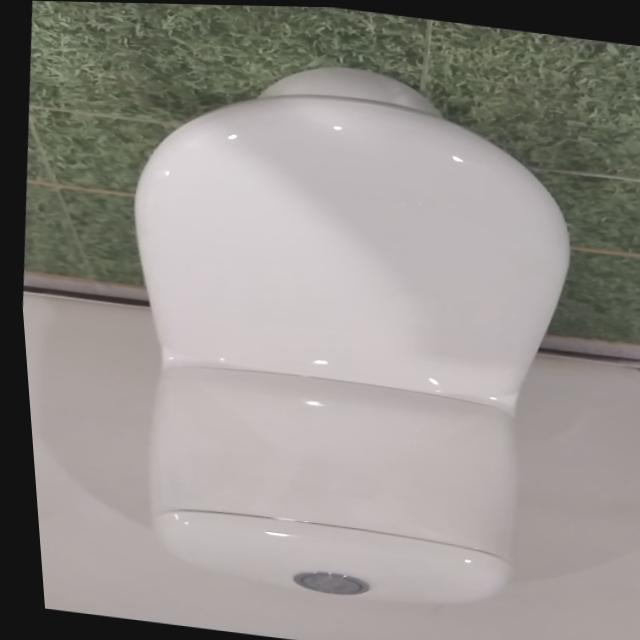toilet: (82, 39, 606, 623)
